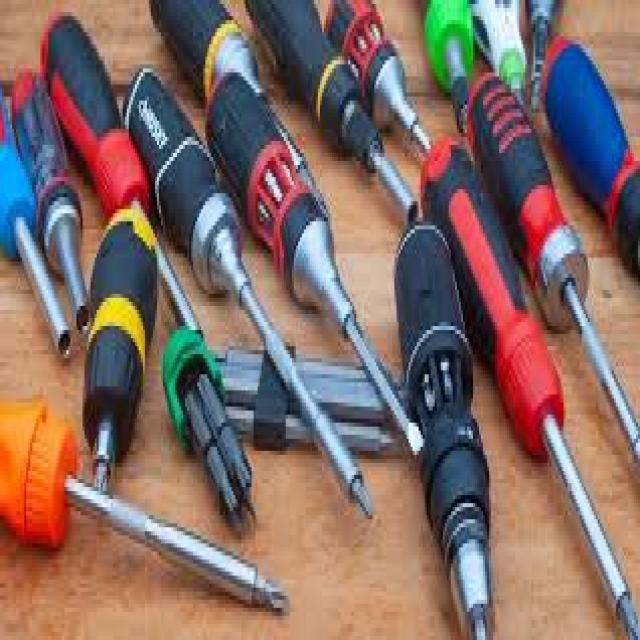screw driver: (419, 96, 640, 640), (0, 342, 290, 640)
